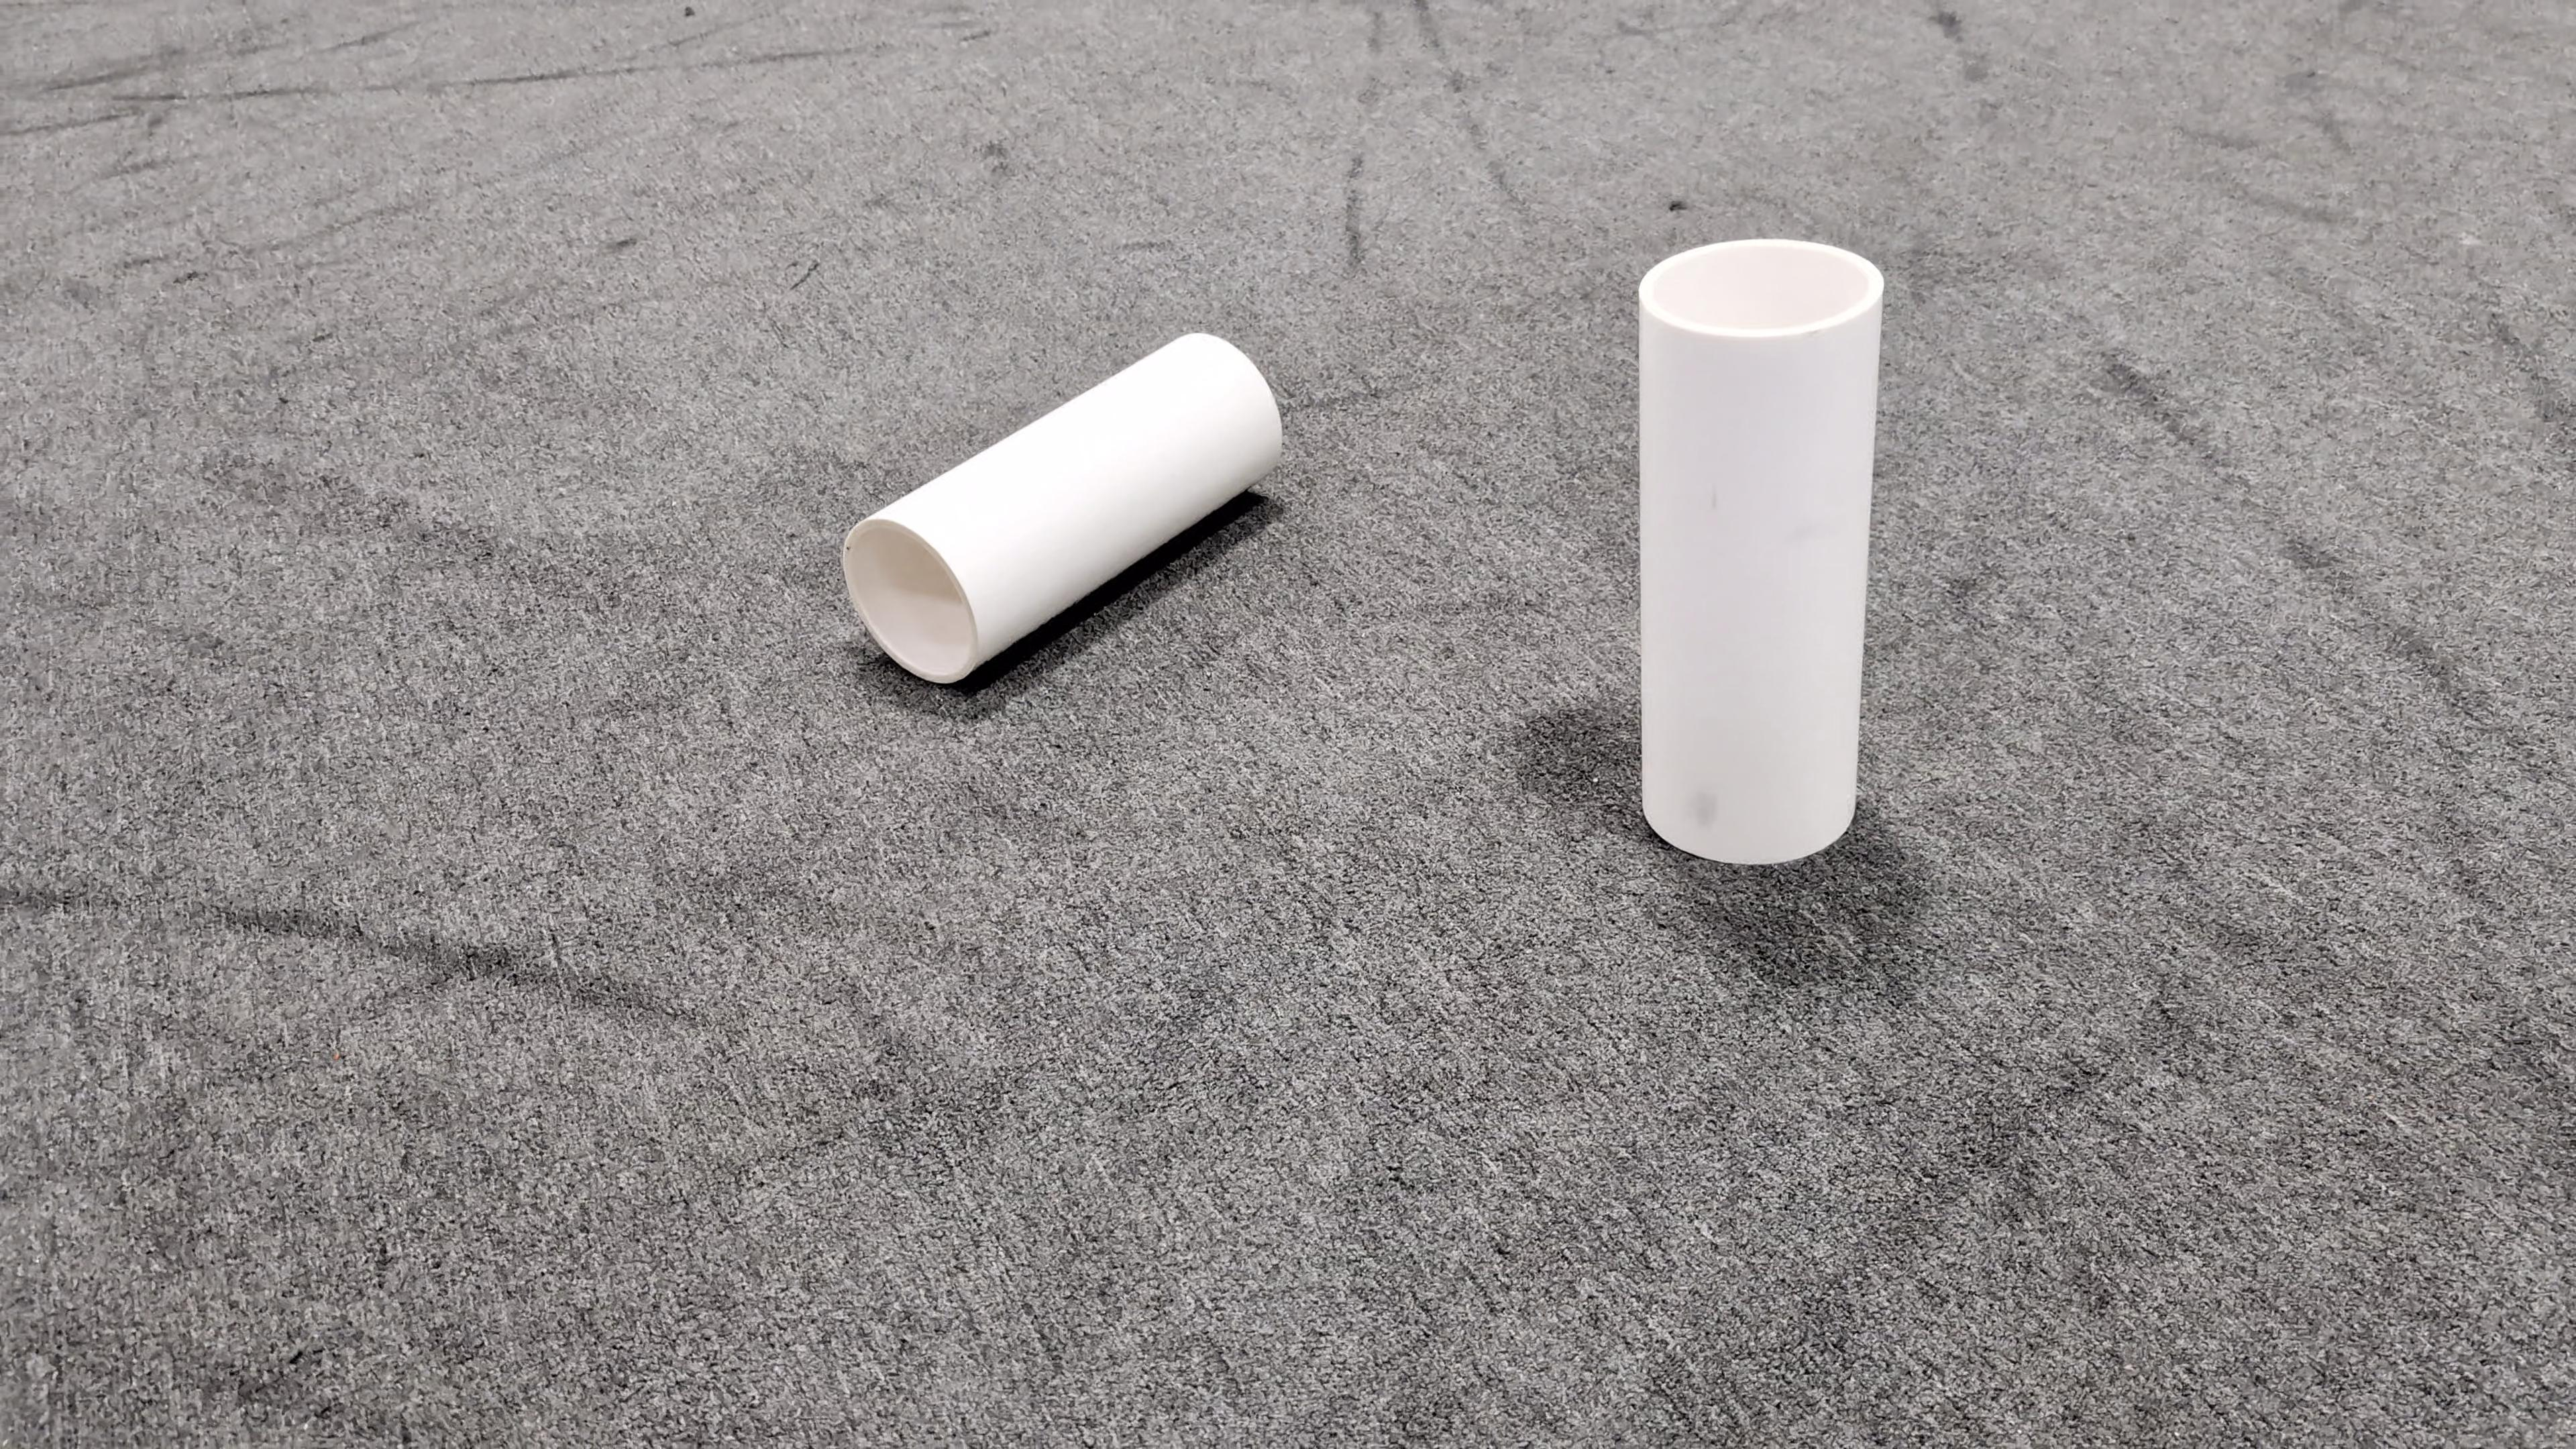coral: (1626, 234, 1890, 863), (840, 327, 1286, 686)
